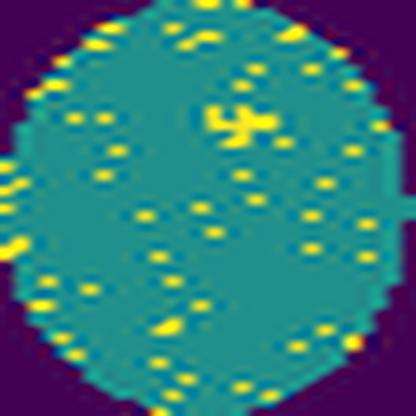Loc: (205, 101, 277, 149)
